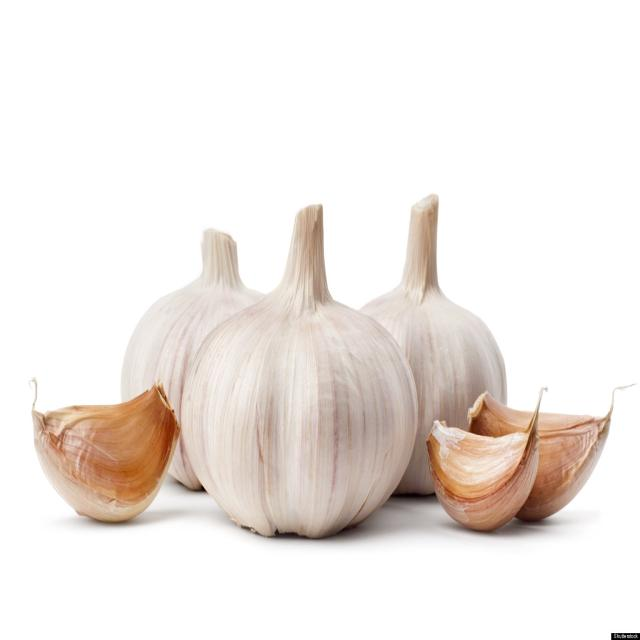garlic: (180, 204, 417, 537), (360, 194, 506, 494), (120, 228, 263, 421), (31, 381, 179, 520), (426, 387, 546, 529), (516, 409, 610, 519), (468, 391, 531, 436)
